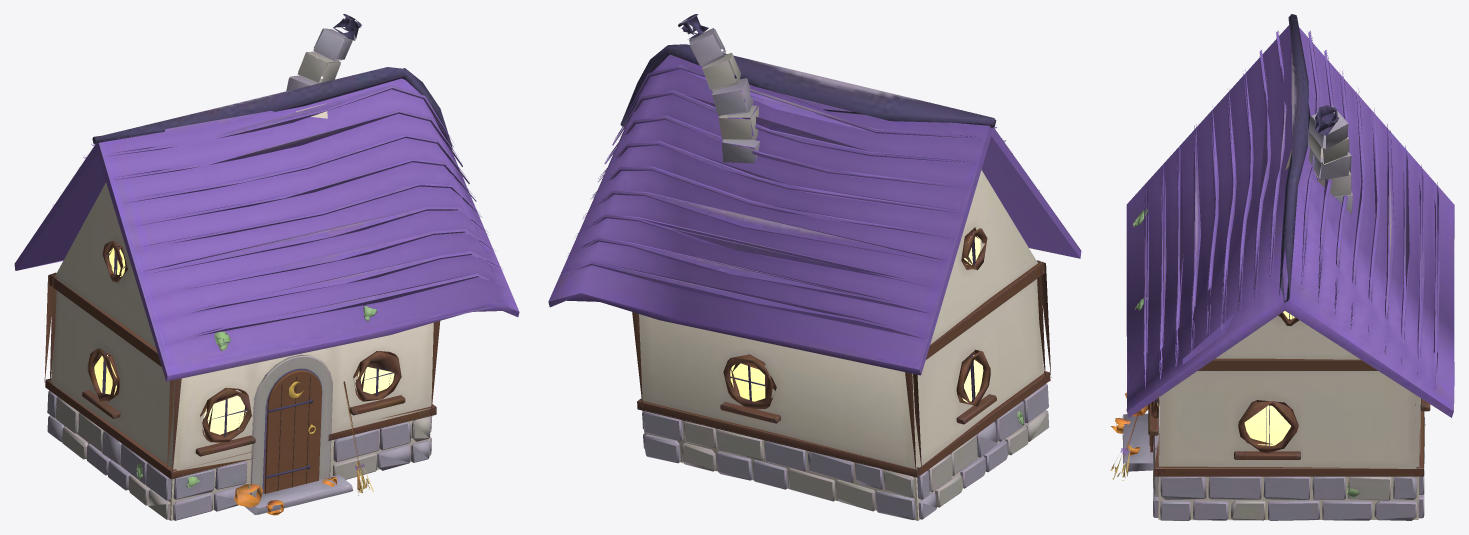
3 renders of one model, left to right at view 1: azimuth 30°, elevation 25°; view 2: azimuth 150°, elevation 25°; view 3: azimuth 270°, elevation 25°, orthographic. The views are drawn at different scales.
Parts seen in each view (by area): view 1: witch-cottage_body, witch-cottage_door, witch-cottage_window_glow; view 2: witch-cottage_body, witch-cottage_window_glow; view 3: witch-cottage_body, witch-cottage_window_glow.
Part boxes in pixels (x1=…): witch-cottage_body: x1=14, y1=14, x2=519, y2=520; witch-cottage_door: x1=264, y1=370, x2=321, y2=493; witch-cottage_window_glow: x1=94, y1=248, x2=394, y2=434; witch-cottage_body: x1=548, y1=14, x2=1081, y2=520; witch-cottage_window_glow: x1=730, y1=236, x2=983, y2=402; witch-cottage_body: x1=1110, y1=14, x2=1454, y2=520; witch-cottage_window_glow: x1=1157, y1=311, x2=1294, y2=445.
Size of the model in its own units: 6.12 by 6.26 by 4.74.
3 materials, 2 textured.
